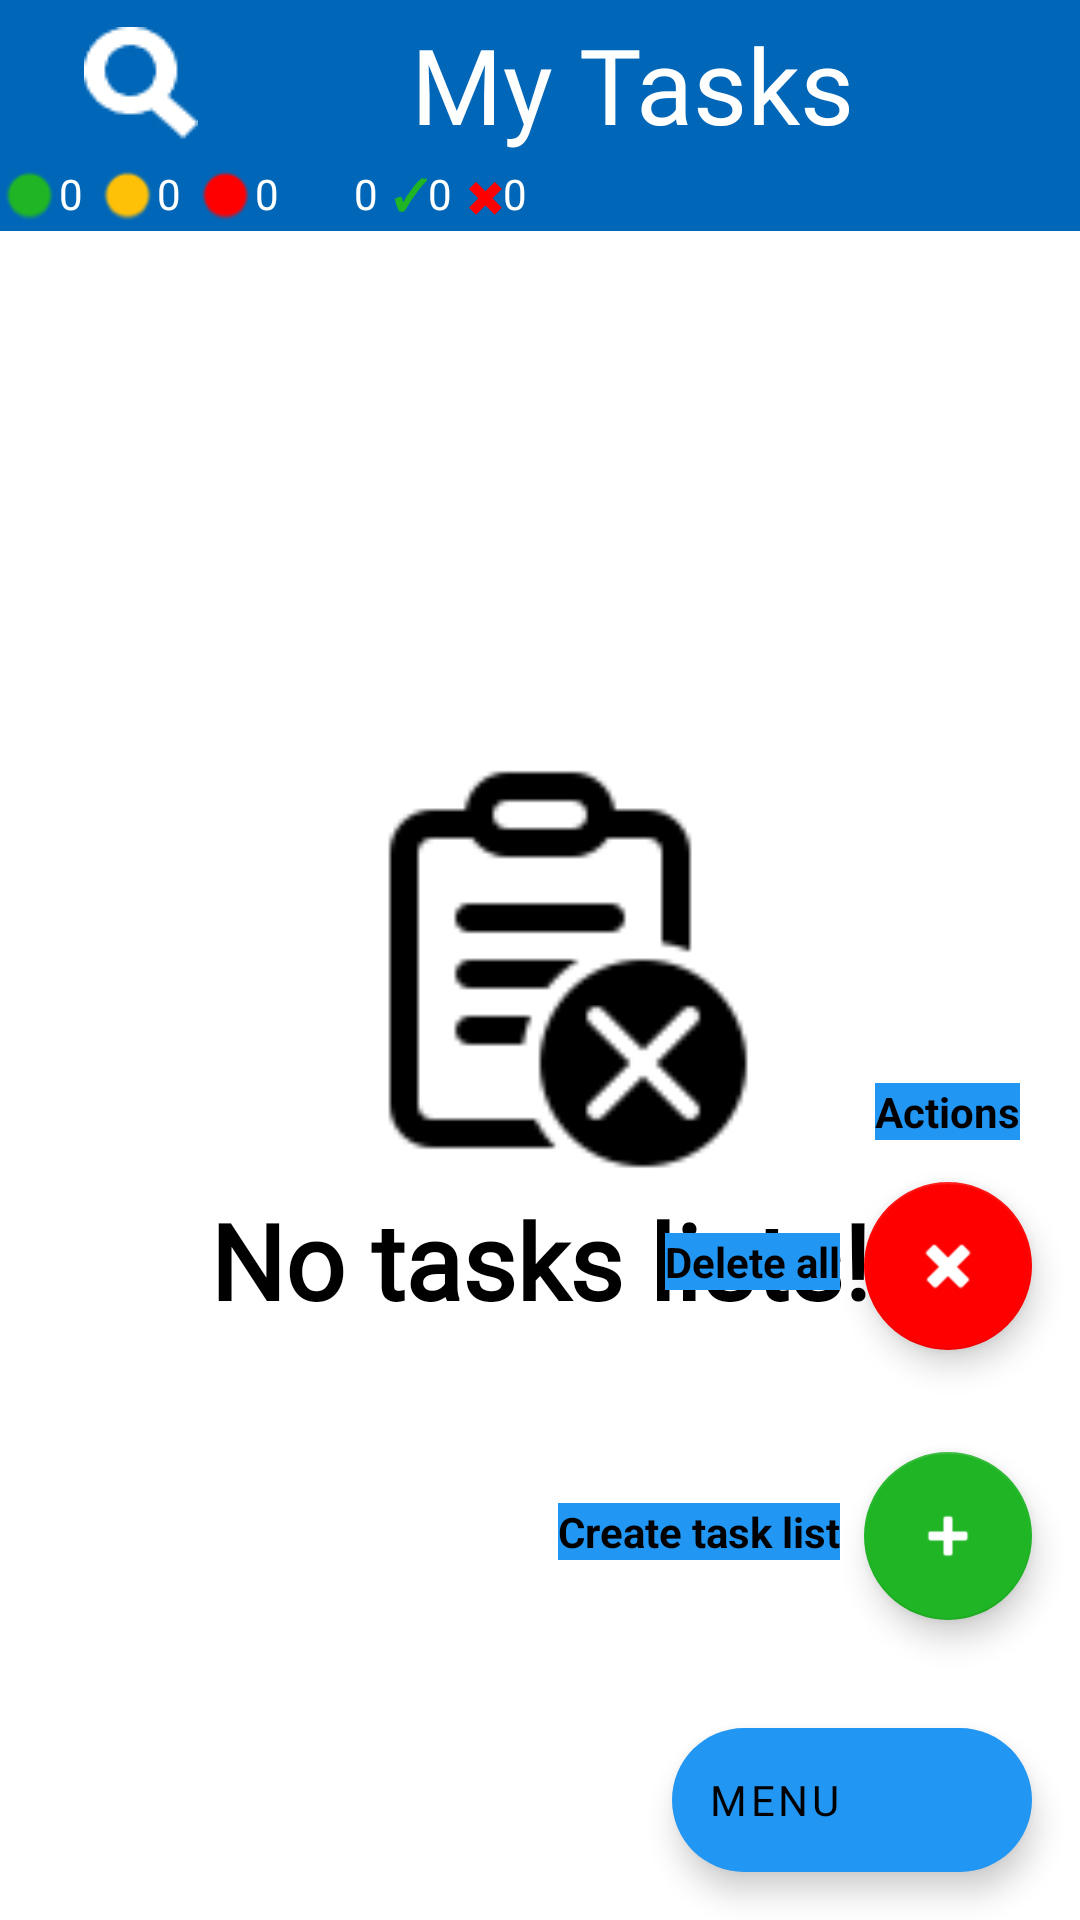

Screen size 1080px x 1920px. Icon name, then its box in pixels as box=[x1, y1, x2, y2]:
add: box=[864, 1452, 1032, 1620]
